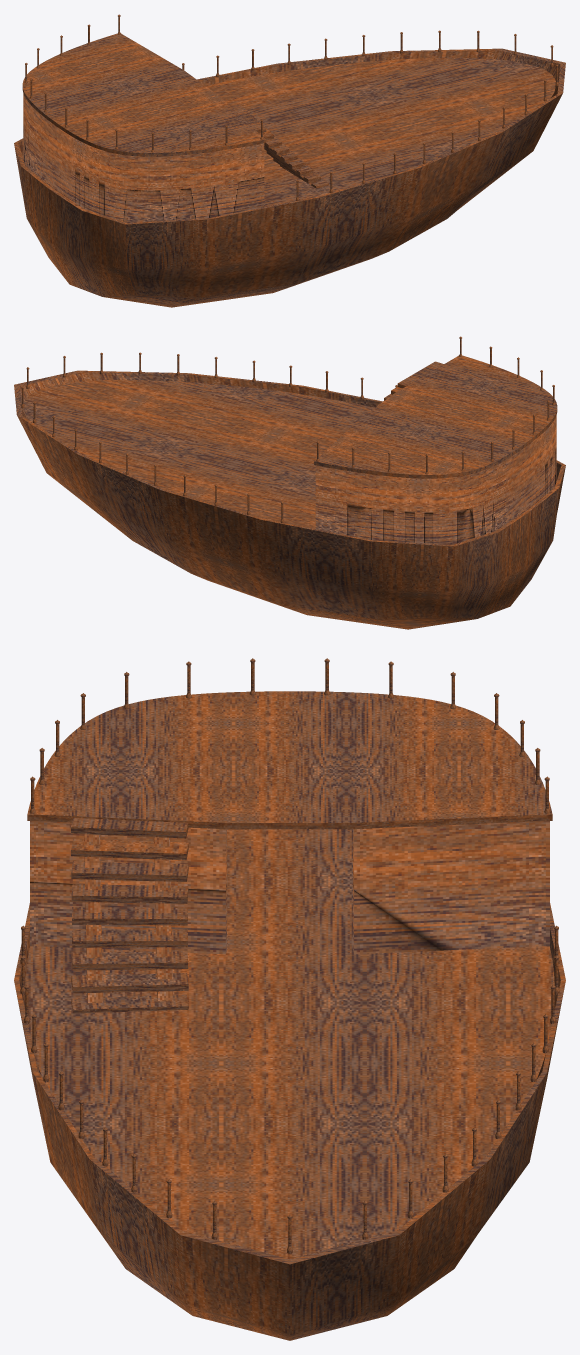
File: ship4.glb
The picture shows the model from 3 angles, top to bottom: view 1: azimuth 30°, elevation 25°; view 2: azimuth 150°, elevation 25°; view 3: azimuth 270°, elevation 25°; orthographic projection. The views are drawn at different scales.
Visible parts, largest first — view 1: boat, top, toptop, cabinwall, stairs; view 2: boat, top, toptop, cabinwall, stairs; view 3: top, toptop, boat, cabinwall, stairs, Cube.001.
Boxes of the visible parts, <box> form: boat: <box>14,48,565,307</box>; top: <box>205,57,555,206</box>; toptop: <box>22,33,265,156</box>; cabinwall: <box>23,93,264,222</box>; stairs: <box>230,103,328,188</box>; boat: <box>14,370,565,629</box>; top: <box>24,379,374,528</box>; toptop: <box>314,355,557,478</box>; cabinwall: <box>315,415,556,544</box>; stairs: <box>377,361,443,405</box>; top: <box>25,829,554,1259</box>; toptop: <box>27,691,552,829</box>; boat: <box>14,903,565,1340</box>; cabinwall: <box>30,821,549,954</box>; stairs: <box>71,818,188,1013</box>; Cube.001: <box>84,834,173,1002</box>.
Size of what is drawn, in the model's own units: 13.75 by 5.75 by 7.05.
1 material, 1 textured.
